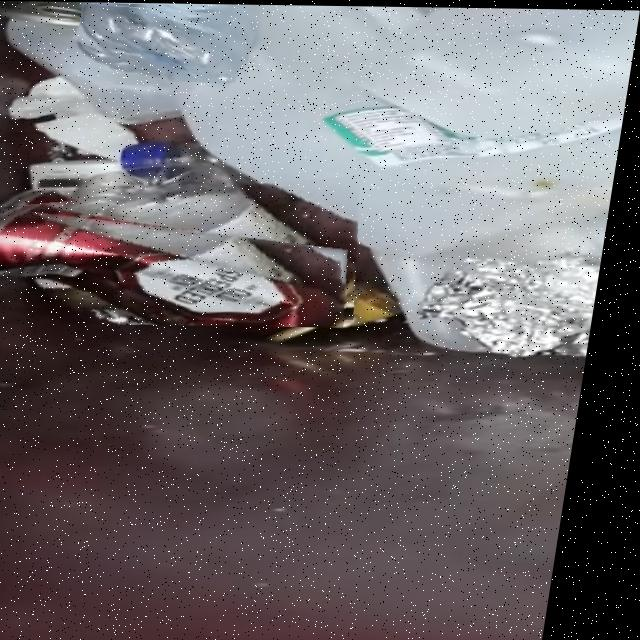litter: (0, 207, 357, 325), (79, 1, 252, 81)
